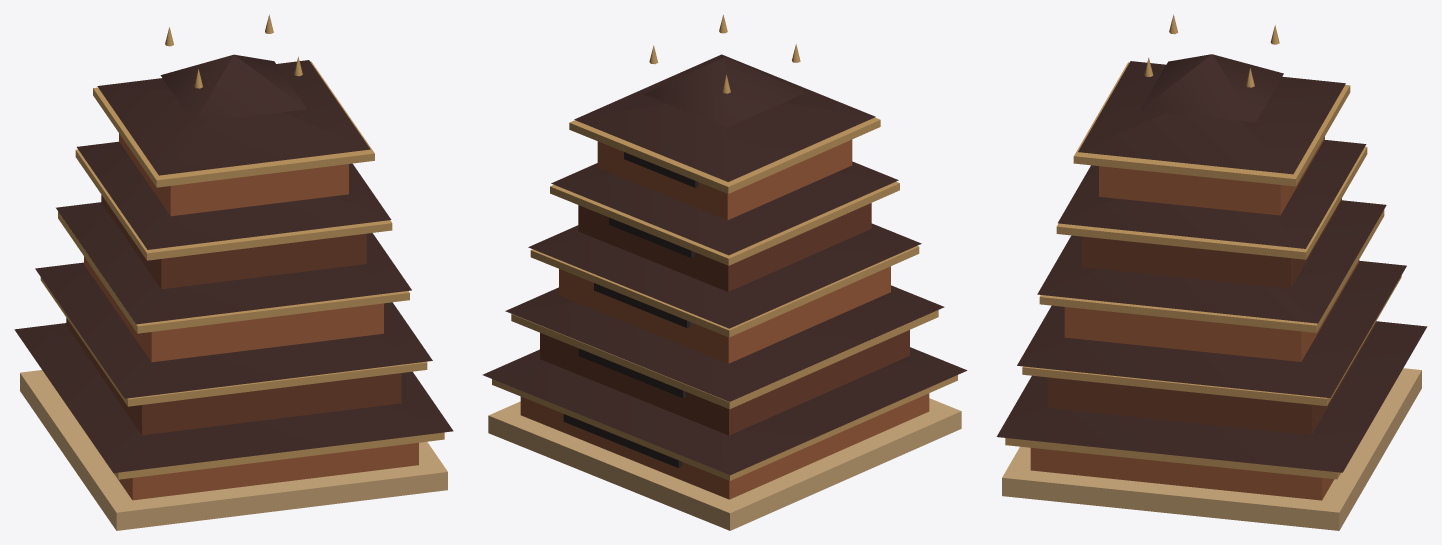
Rendered from model-medium.glb.
The picture shows the model from 3 angles, left to right: view 1: azimuth 30°, elevation 25°; view 2: azimuth 150°, elevation 25°; view 3: azimuth 270°, elevation 25°; orthographic projection. The views are drawn at different scales.
Parts seen in each view (by area): view 1: Roof_Eave (×6), Floor_Body (×5), Eave_Band (×5), Foundation_Platform; view 2: Roof_Eave (×6), Floor_Body (×5), Eave_Band (×5), Foundation_Platform, Timber_Window_Reveal (×5); view 3: Roof_Eave (×6), Floor_Body (×5), Eave_Band (×5), Foundation_Platform.
Part boxes in pixels (x1,y1,x2,y2): Roof_Eave (×6): [14, 54, 453, 473]; Floor_Body (×5): [66, 133, 418, 500]; Eave_Band (×5): [40, 61, 444, 479]; Foundation_Platform: [20, 370, 447, 530]; Roof_Eave (×6): [482, 54, 967, 475]; Floor_Body (×5): [520, 139, 929, 499]; Eave_Band (×5): [492, 117, 957, 480]; Foundation_Platform: [488, 398, 961, 530]; Timber_Window_Reveal (×5): [563, 152, 698, 468]; Roof_Eave (×6): [996, 54, 1427, 472]; Floor_Body (×5): [1030, 136, 1376, 500]; Eave_Band (×5): [1005, 62, 1401, 479]; Foundation_Platform: [1002, 368, 1421, 530].
Size of the model in its own units: 6.39 by 6.57 by 6.39.
